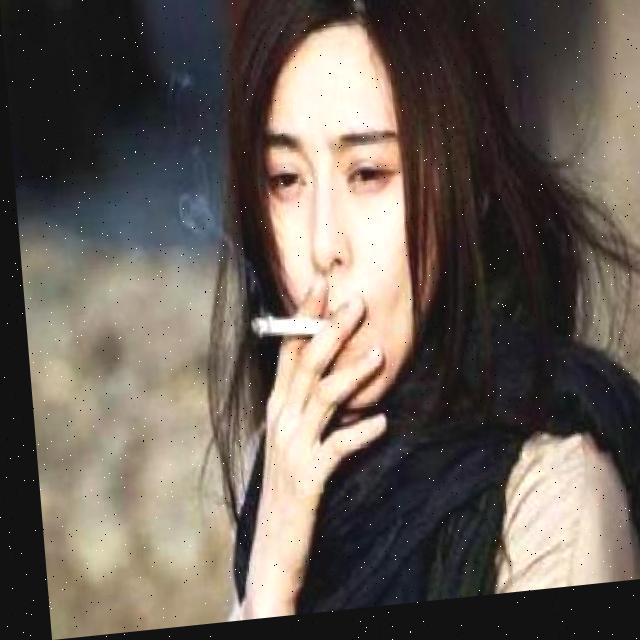cigarette: (247, 316, 327, 349)
